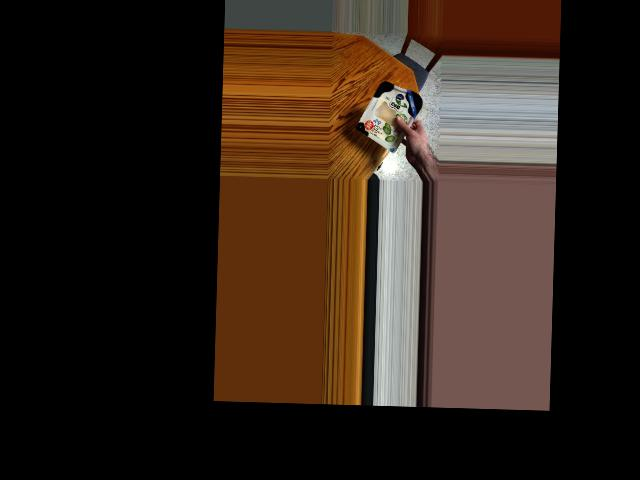cheese: (359, 82, 422, 145)
